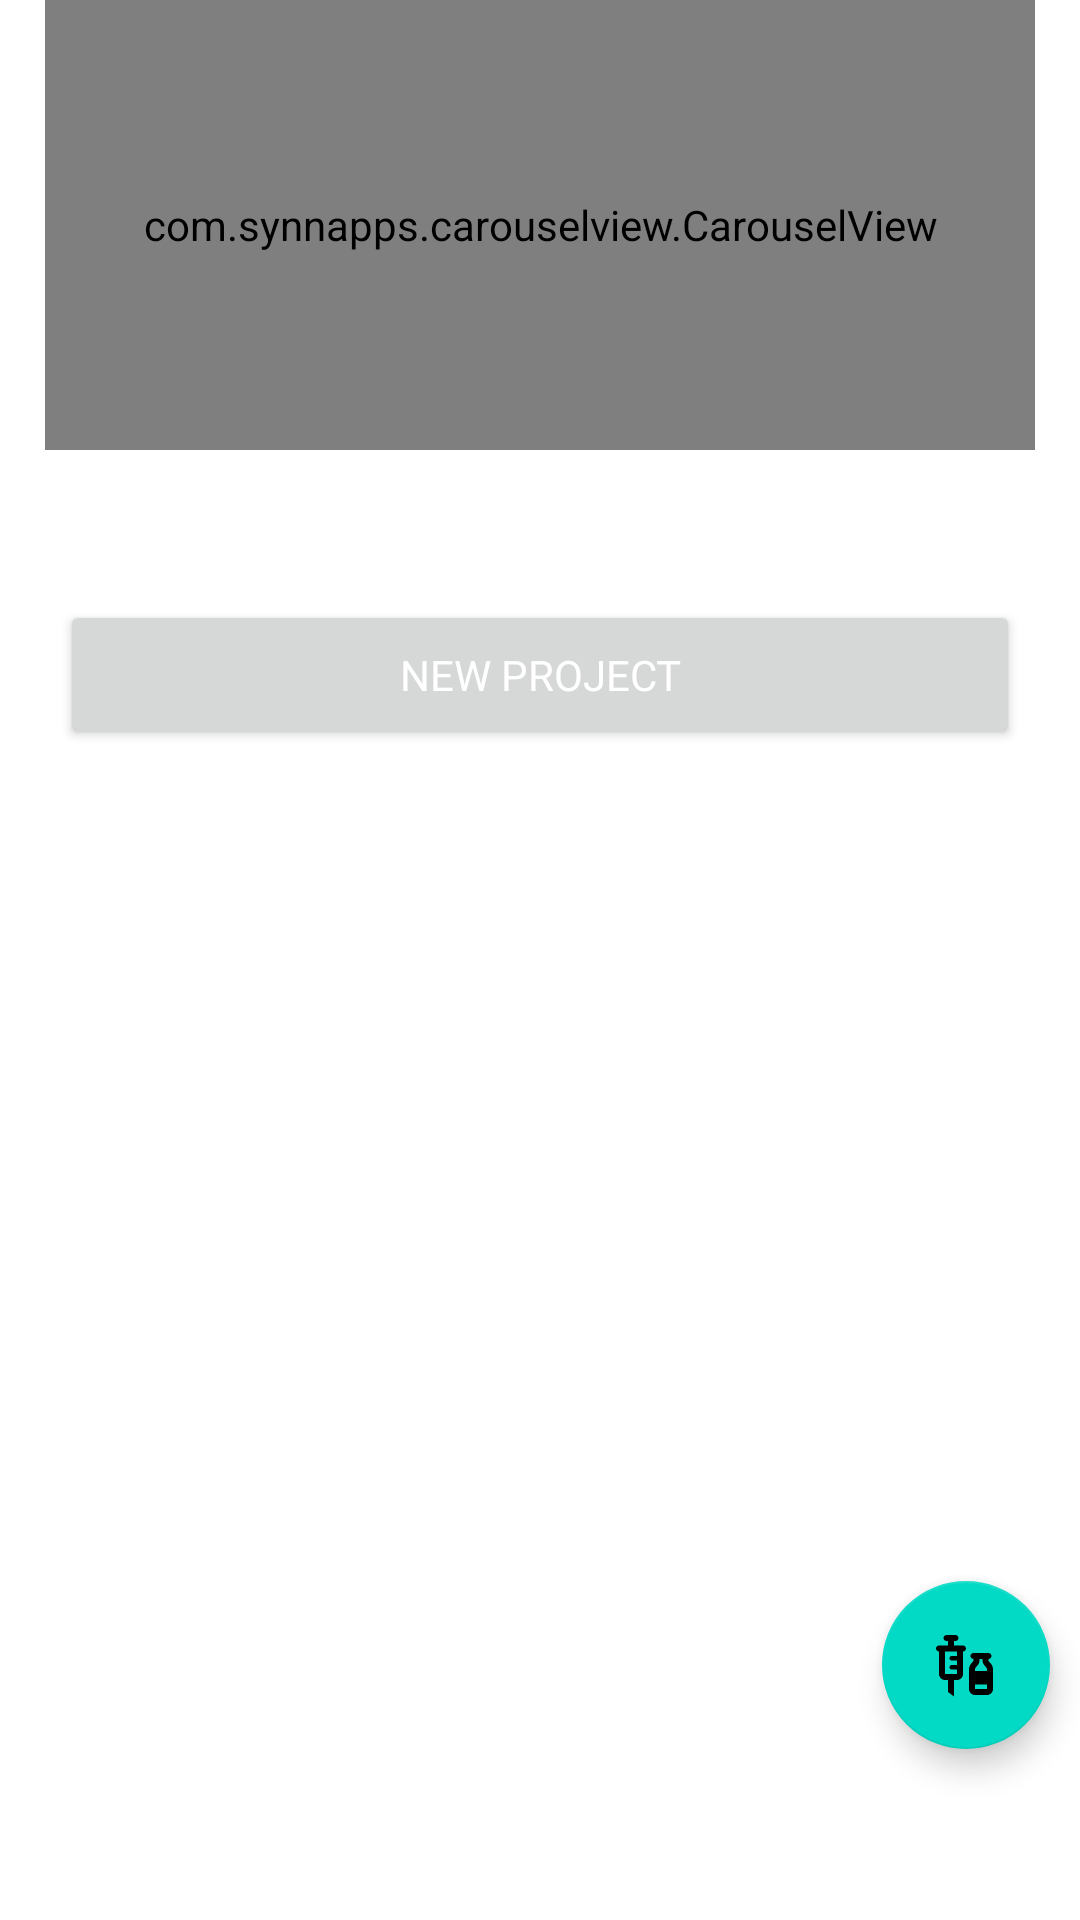

Where to tap for icons on this 1080w x 1920h app screen, as [x,y]:
vaccines: [966,1665]
